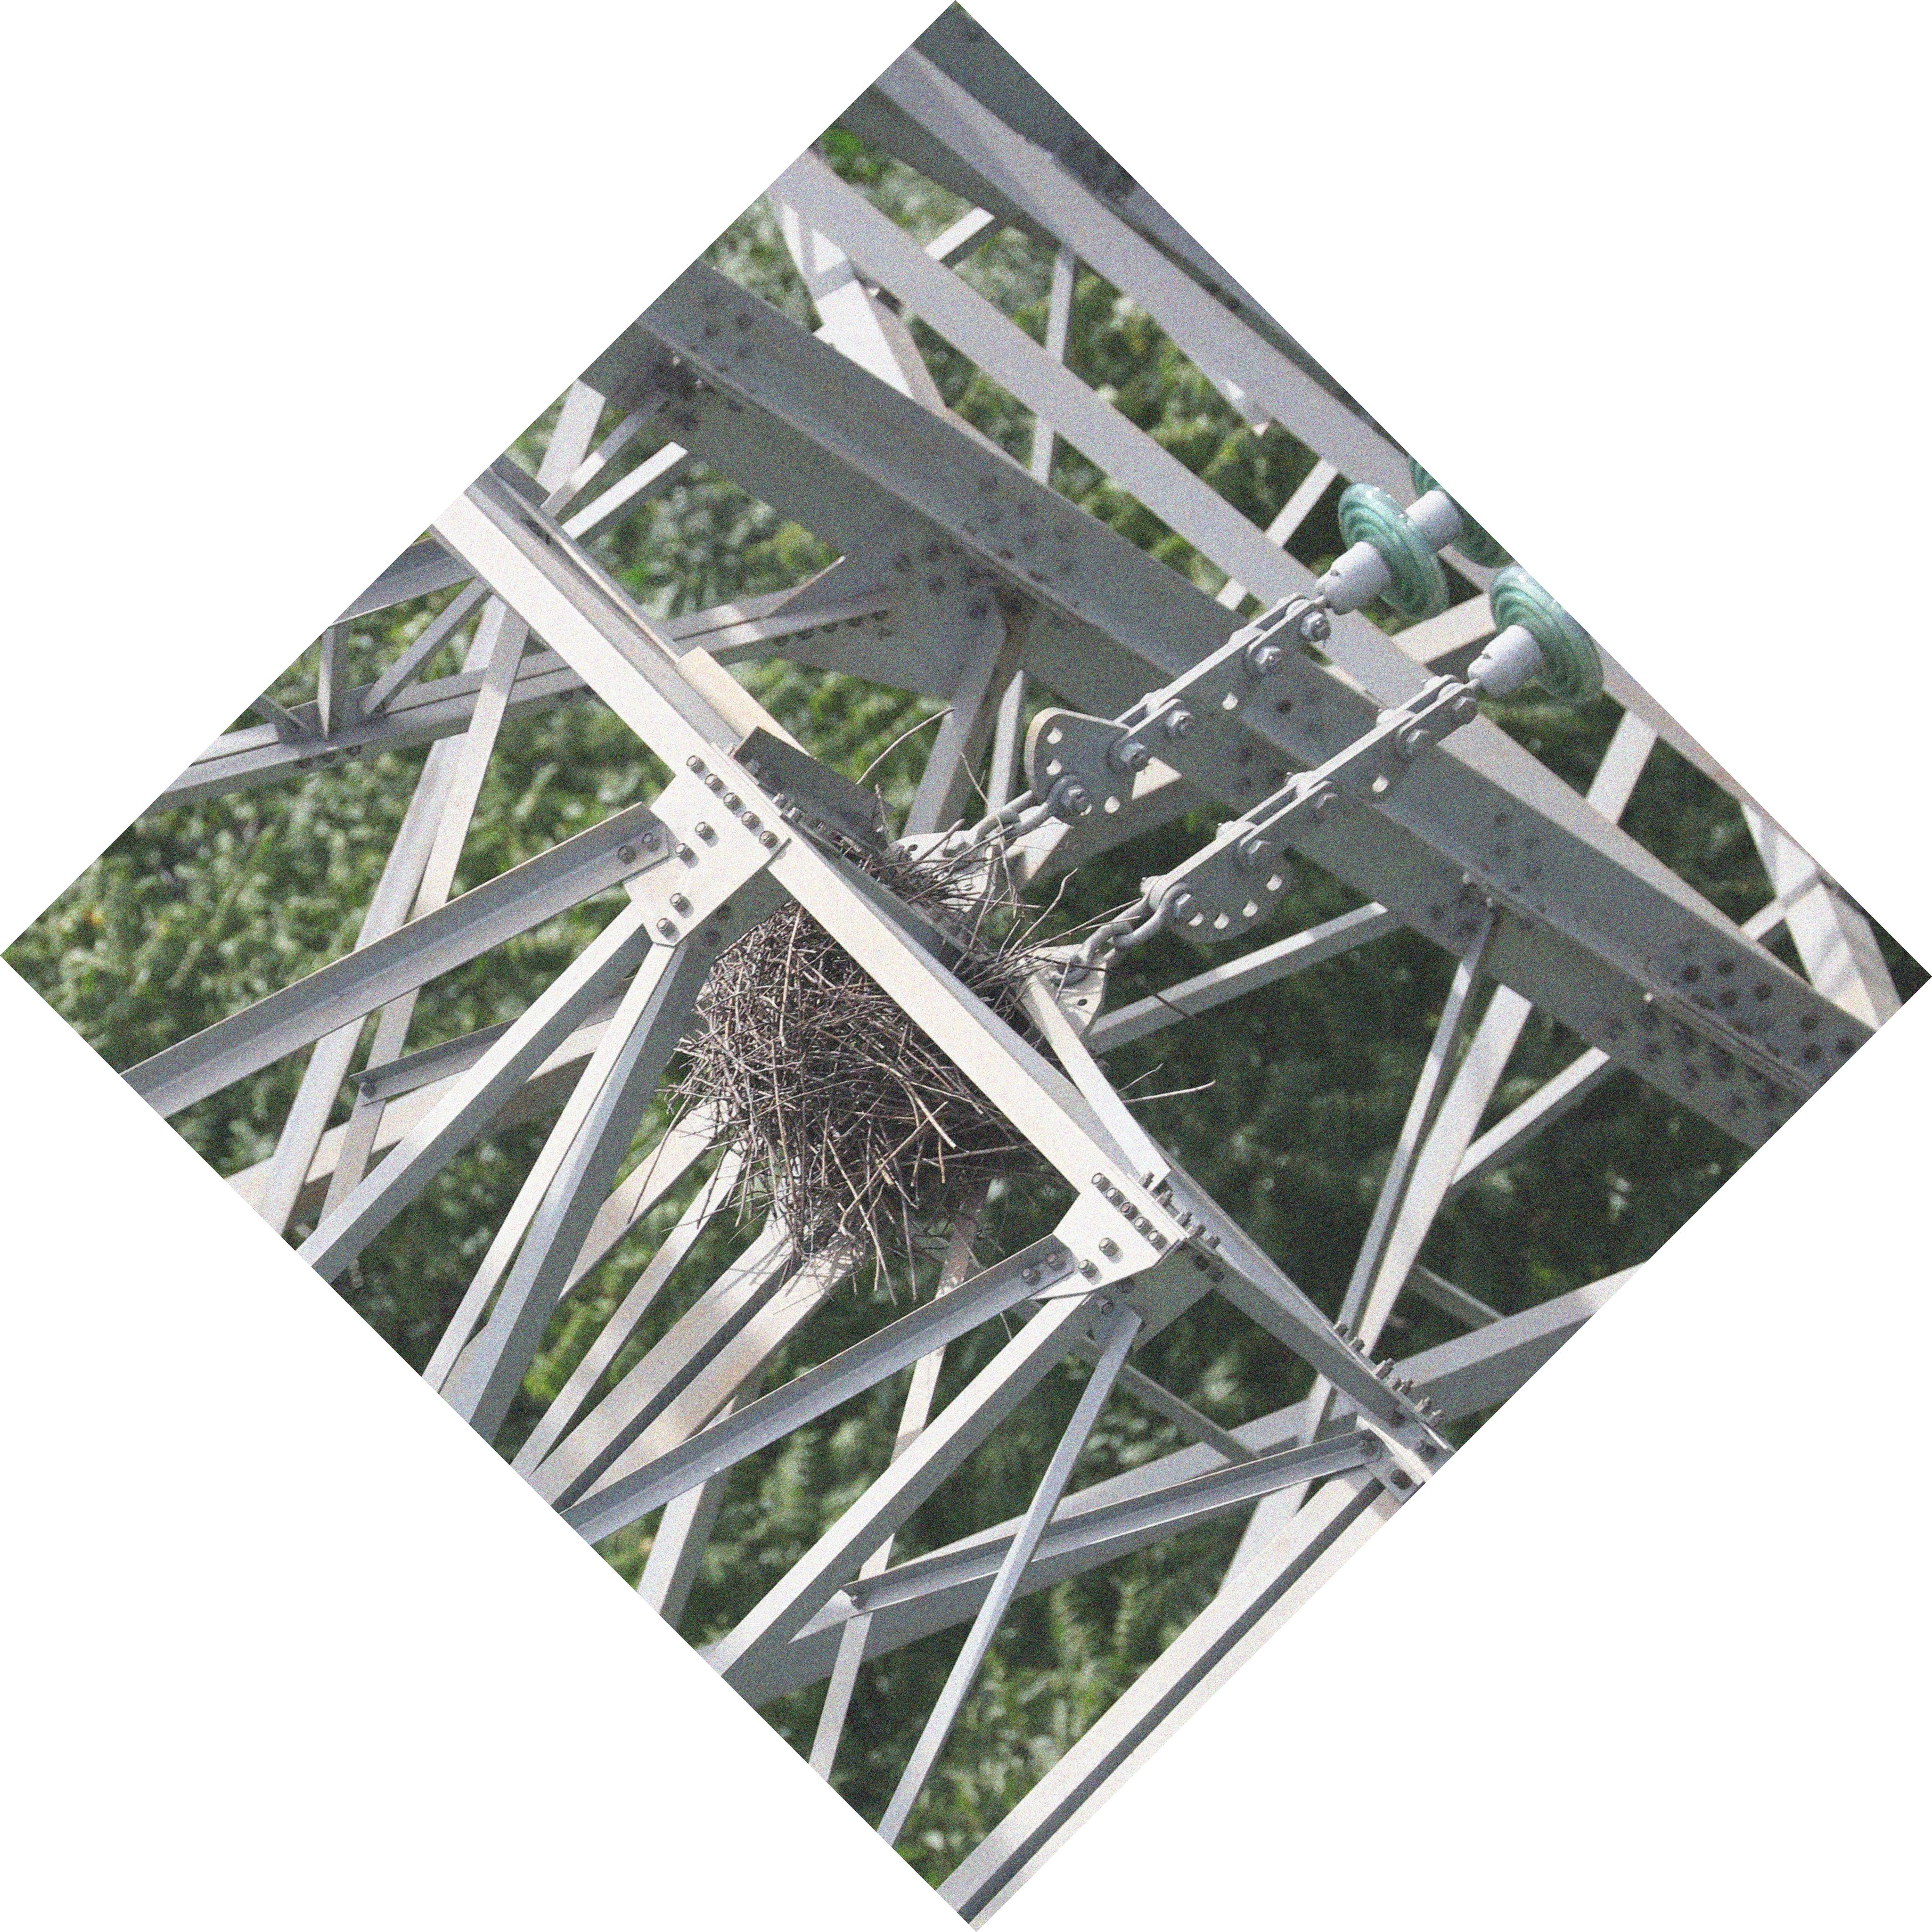niaowo: (642, 865, 1083, 1286)
